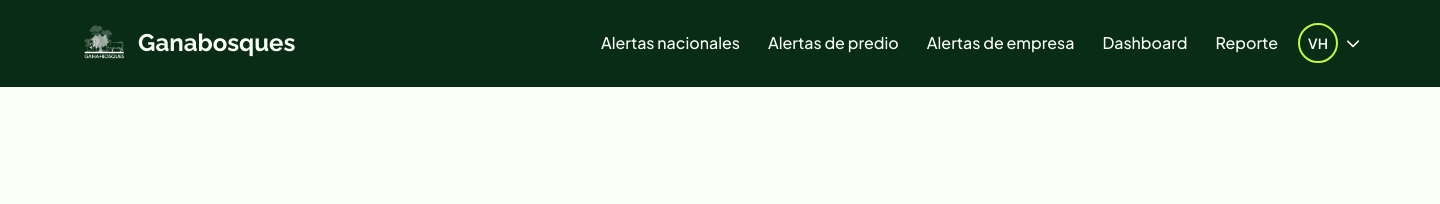
it: Header › user dropdown › logs out and closes from the dropdown
What coordinates should you click on to do the following:
click the button "VH"
I would click on:
 (1329, 43)
Its box is [1298,23,1360,63].
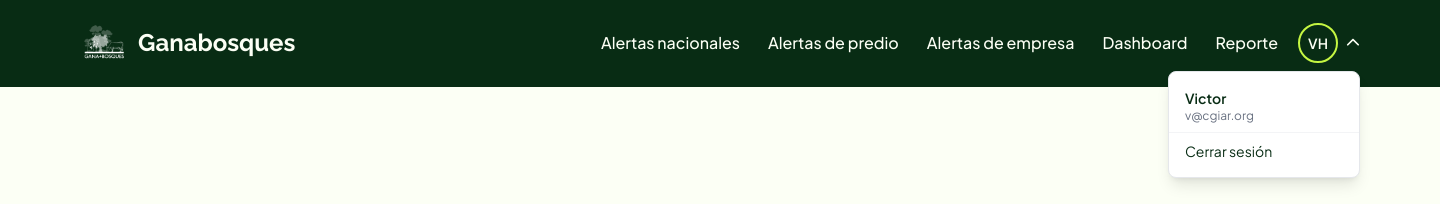
What coordinates should you click on to do the following:
click the button "Cerrar sesión"
I would click on:
 (1264, 151)
Its box is [1169,133,1359,169].
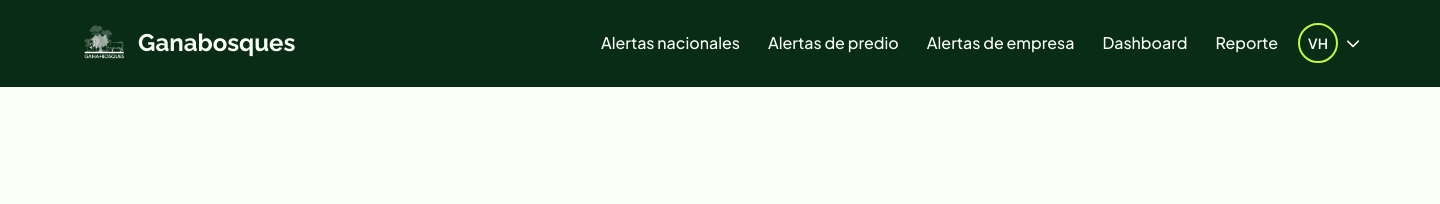
Check: the button "Cerrar sesión" is gone
